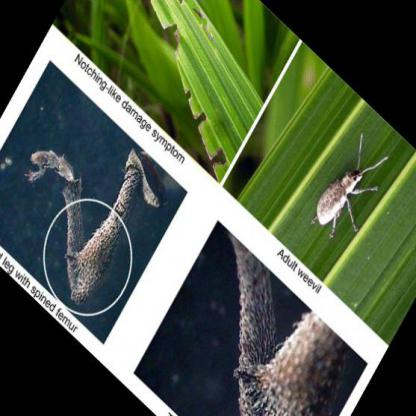ash weevil: (318, 134, 378, 227)
